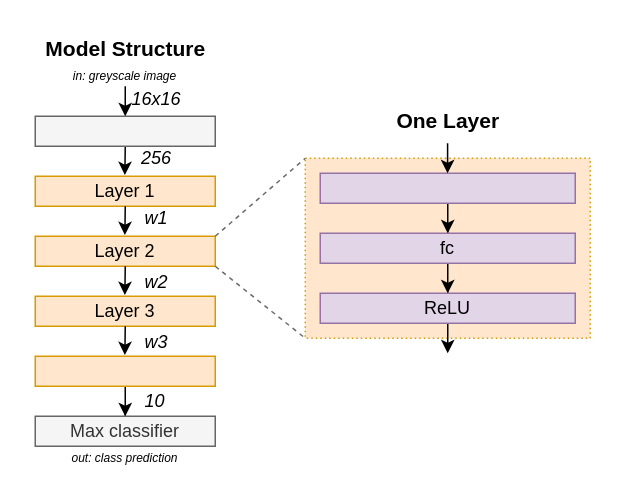
Some shapes in this 617 by 494 pixel diagram are drawn without their labels. The shapes that lost their labels are listed below. From the top down, each one's box as (x1, y1, x2, y2) in pixels, then its label:
(34, 115, 215, 146): flatten
(319, 172, 575, 203): RMS Normalization
(34, 355, 215, 386): Last layer (No ReLU)
